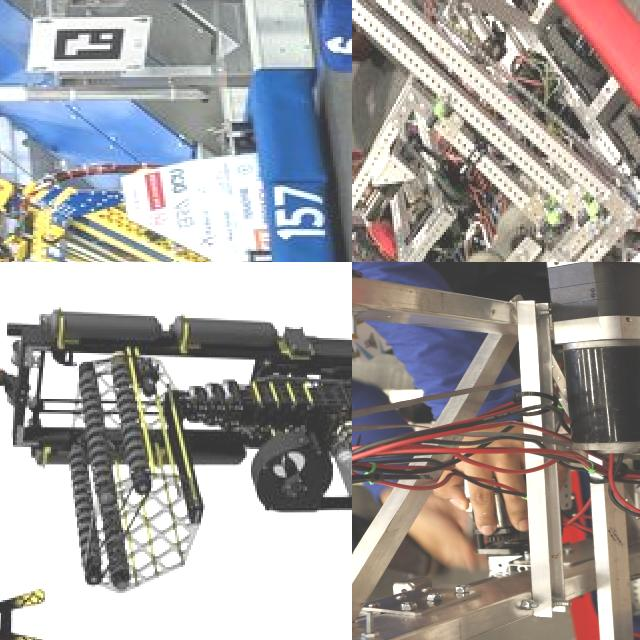FRC-Robots: (0, 262, 352, 640), (352, 262, 640, 640), (352, 0, 640, 262), (0, 53, 352, 262)
